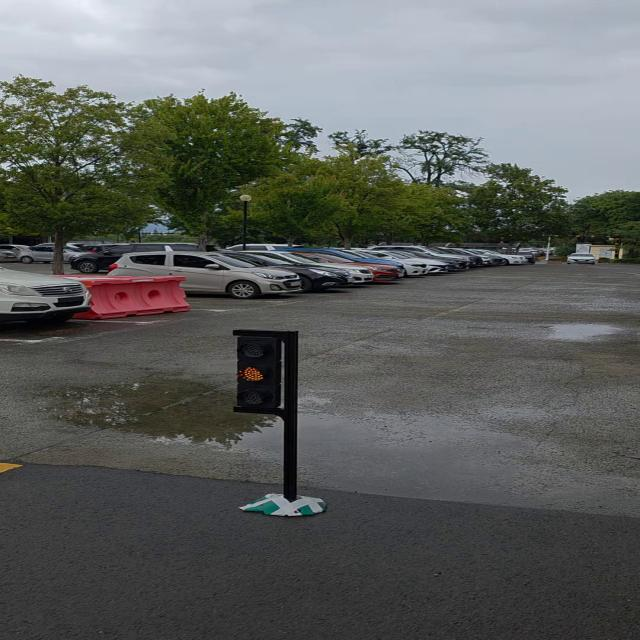yellow: (233, 331, 286, 417)
